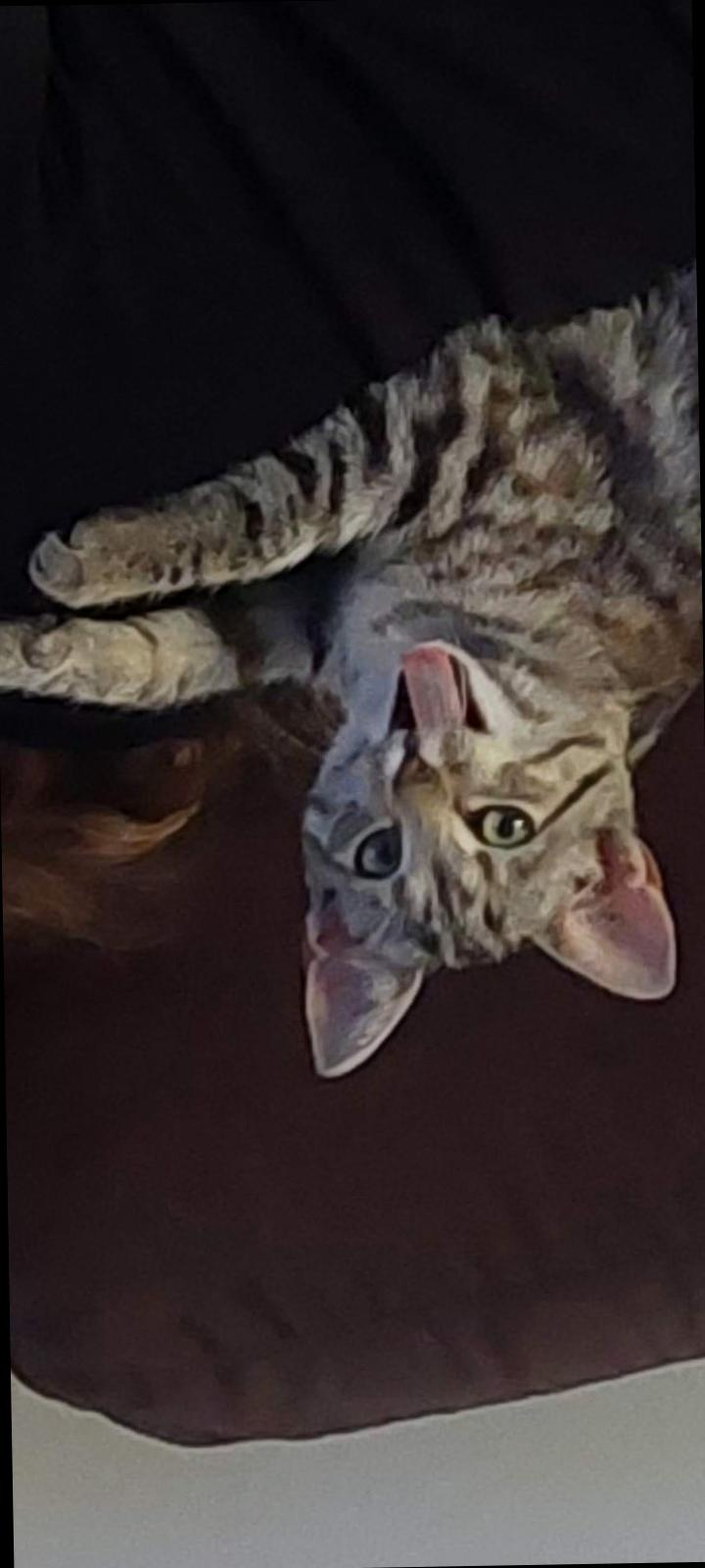macka: (0, 258, 705, 1087)
